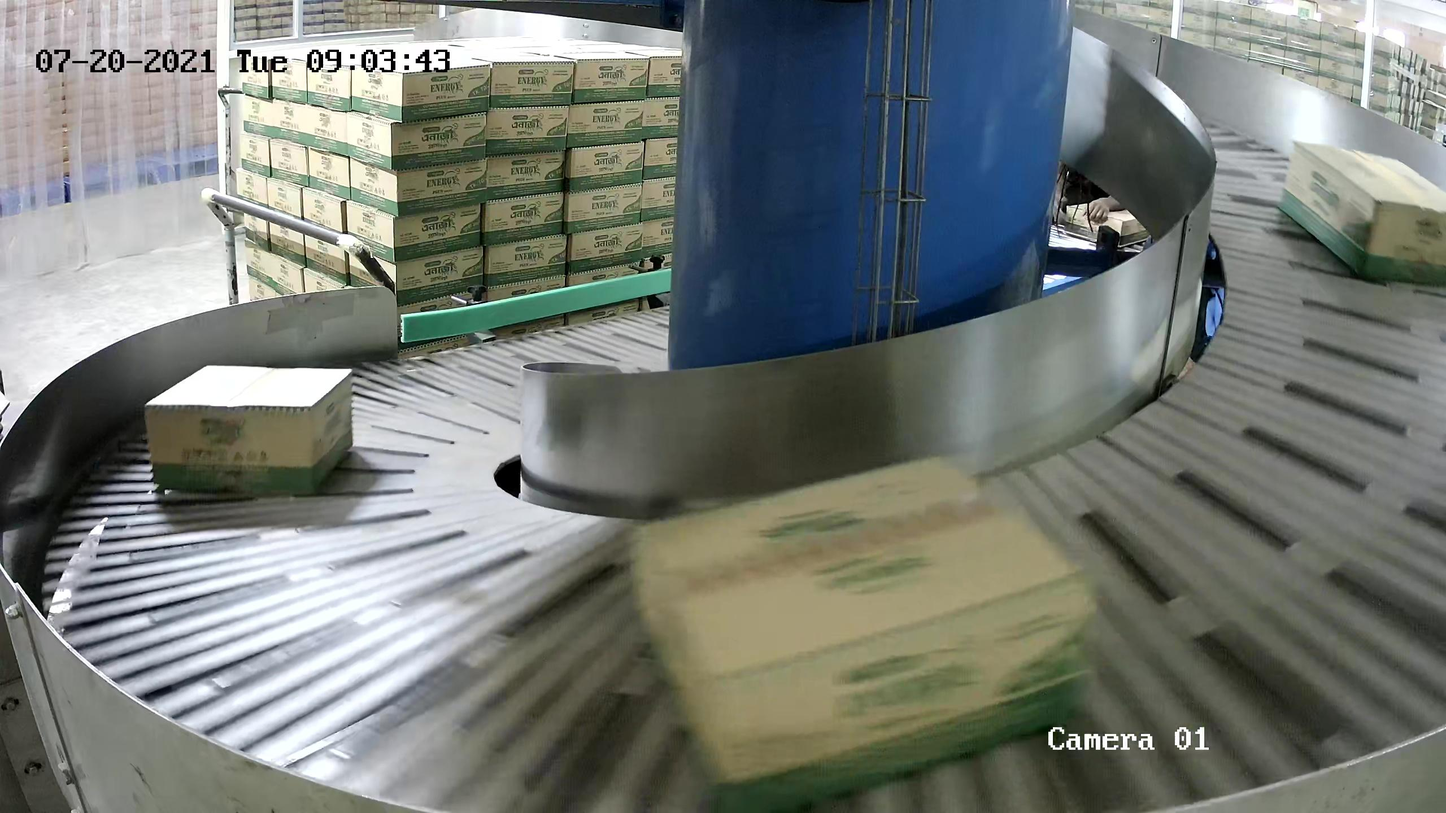Box: (628, 450, 1093, 813), (144, 364, 355, 497), (1276, 141, 1446, 288)
